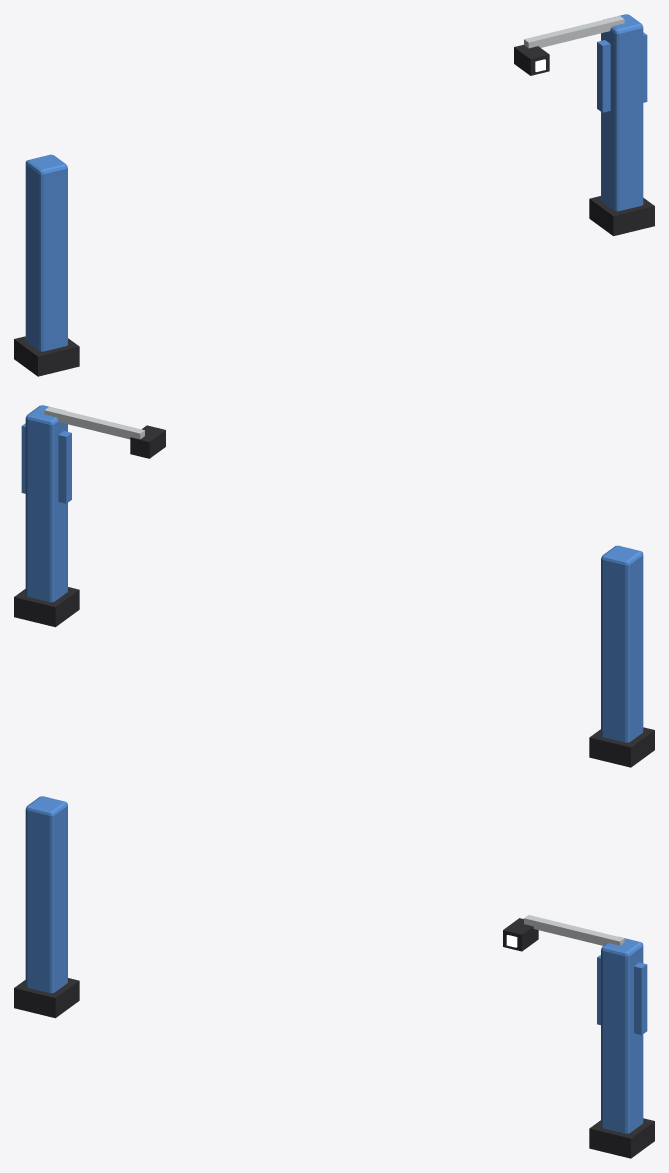
File: gate_trap.glb
The picture shows the model from 3 angles, top to bottom: view 1: azimuth 30°, elevation 25°; view 2: azimuth 150°, elevation 25°; view 3: azimuth 330°, elevation 25°; orthographic projection.
Visible parts, largest first — view 1: Gate.002; view 2: Gate.002; view 3: Gate.002.
Part boxes in pixels (left/top/right/bottom): Gate.002: left=14, top=14, right=654, bottom=376; Gate.002: left=14, top=405, right=654, bottom=767; Gate.002: left=14, top=796, right=654, bottom=1158.
Bounding box in the file's own units: 19.35 × 6.12 × 1.45.
